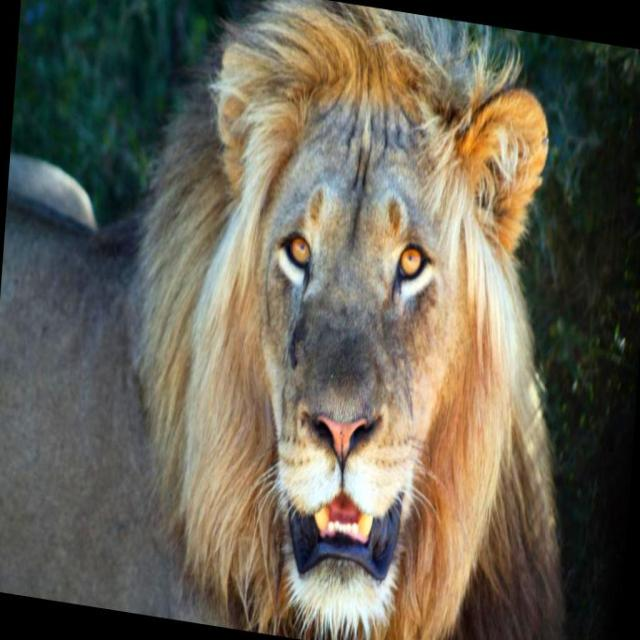Lion: (0, 0, 608, 639)
